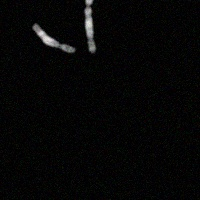chromosome: (32, 23, 76, 53), (85, 0, 95, 52)
